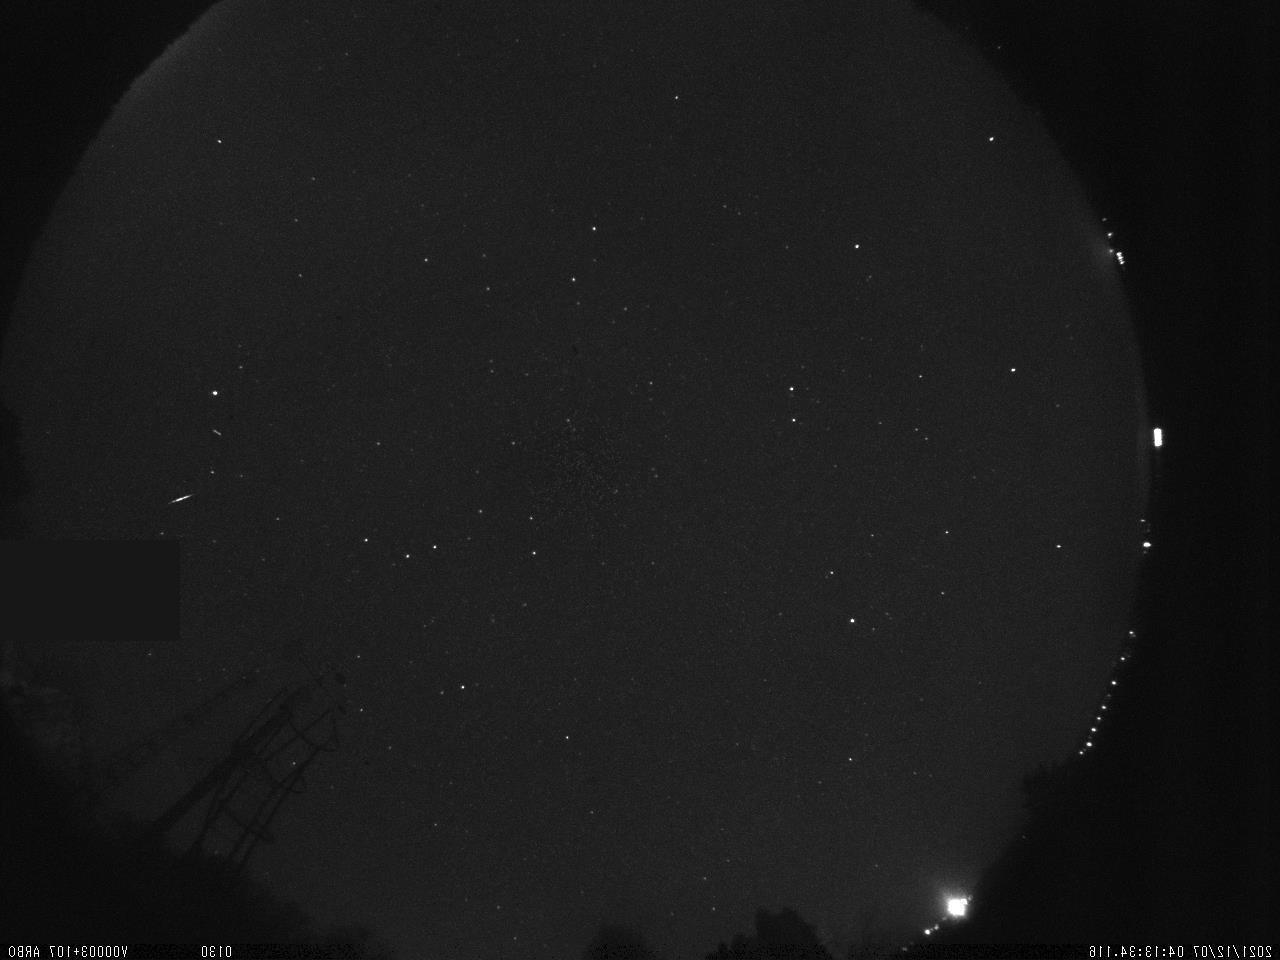meteor: (160, 482, 198, 512)
